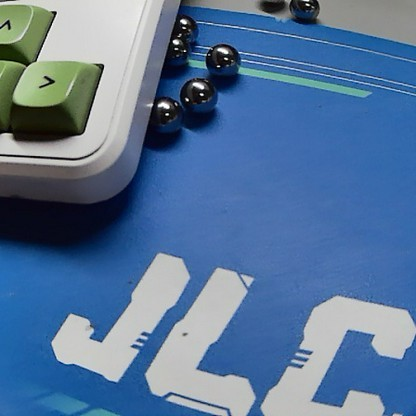ironball: (199, 37, 246, 81), (180, 73, 223, 119), (141, 94, 184, 136), (285, 0, 330, 26), (169, 8, 202, 43), (160, 32, 185, 63)
